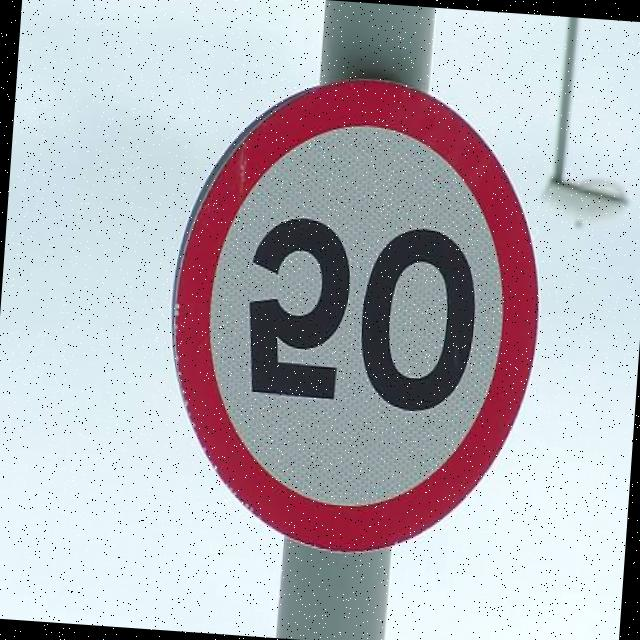speed_limit_50: (144, 56, 558, 570)
